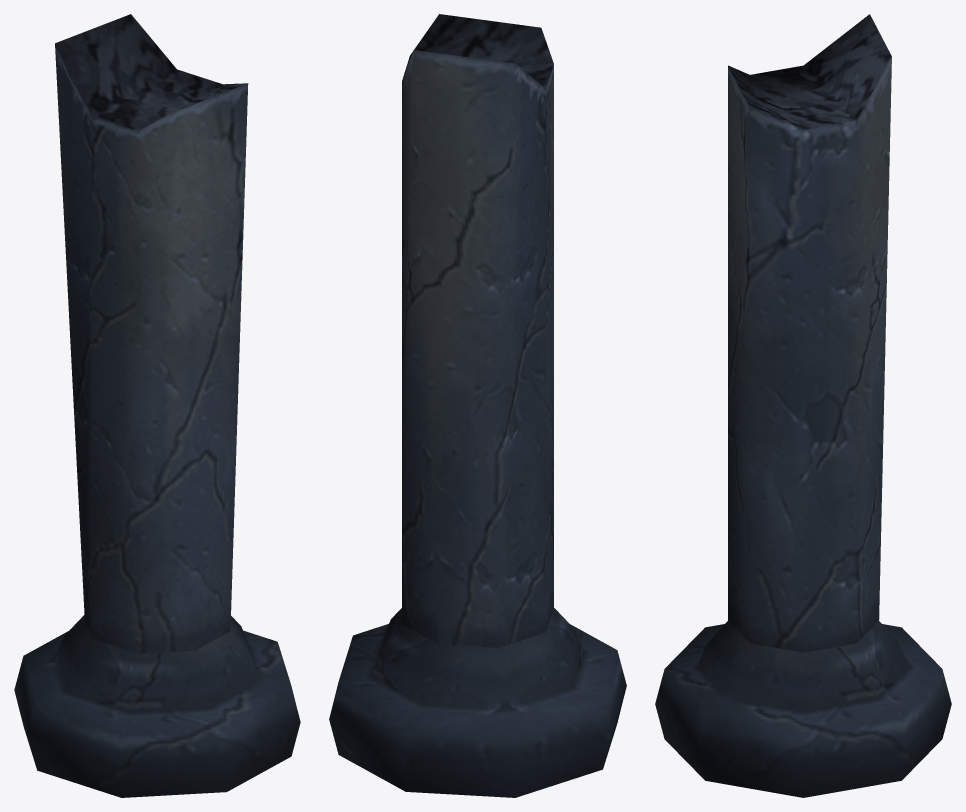
The model's file is poshizhu.FBX.
The picture shows the model from 3 angles, left to right: view 1: azimuth 30°, elevation 25°; view 2: azimuth 150°, elevation 25°; view 3: azimuth 270°, elevation 25°; orthographic projection. The views are drawn at different scales.
Visible parts, largest first — view 1: poshizhu; view 2: poshizhu; view 3: poshizhu.
Boxes of the visible parts, left/top/right/bottom form: poshizhu: left=14, top=14, right=300, bottom=797; poshizhu: left=329, top=14, right=626, bottom=797; poshizhu: left=655, top=14, right=951, bottom=797.
Bounding box in the file's own units: 451 × 451 × 1160.
